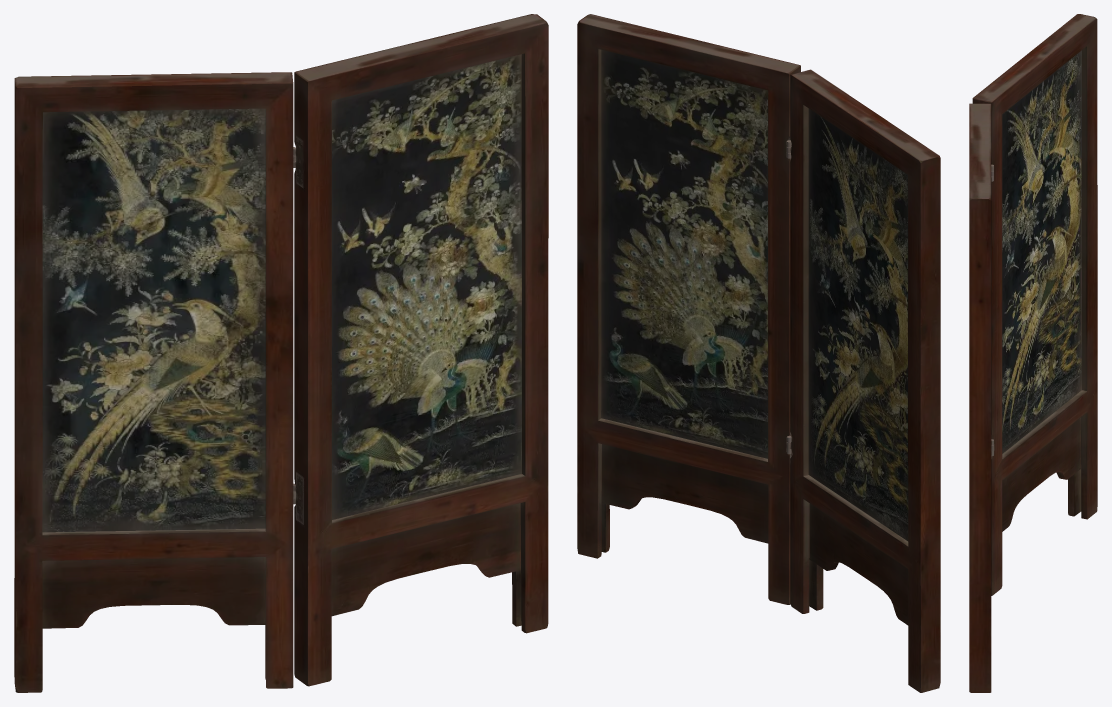
File: chinese_screen_panels.optimized.glb
3 views of the same model, side by side, from view 1: azimuth 30°, elevation 25°; view 2: azimuth 150°, elevation 25°; view 3: azimuth 270°, elevation 25° (orthographic). The views are drawn at different scales.
Parts seen in each view (by area): view 1: chinese_screen_panels_a; view 2: chinese_screen_panels_a; view 3: chinese_screen_panels_a.
Part boxes in pixels (bbox=[...]): chinese_screen_panels_a: bbox=[14, 14, 548, 692]; chinese_screen_panels_a: bbox=[577, 14, 940, 692]; chinese_screen_panels_a: bbox=[969, 14, 1097, 692].
Bounding box in the file's own units: 1.29 × 1.6 × 0.3769.
1 material, 1 textured.
